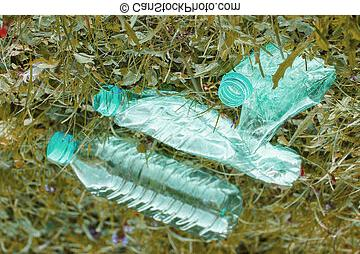Plastic: (47, 132, 243, 242), (94, 85, 303, 184), (219, 45, 337, 152)
